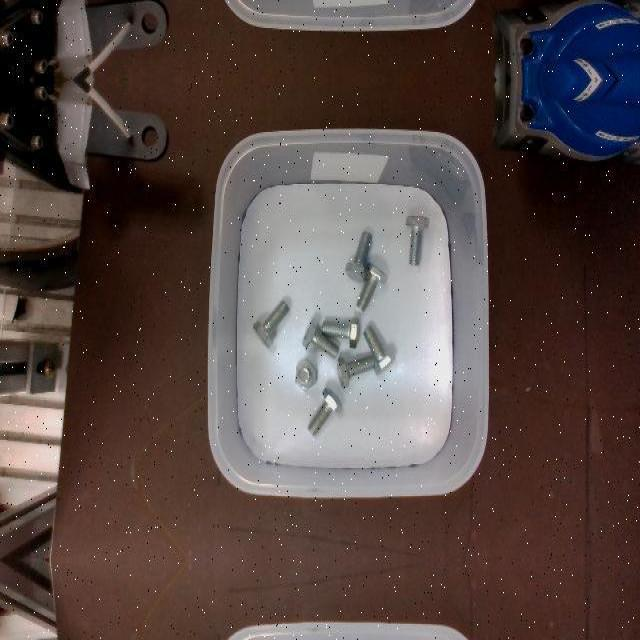screw: (307, 387, 342, 435), (253, 299, 289, 345), (363, 326, 395, 376), (355, 261, 387, 311), (302, 318, 339, 360), (344, 231, 372, 281), (336, 355, 374, 389), (405, 215, 429, 265), (321, 317, 360, 347), (295, 359, 317, 389)
